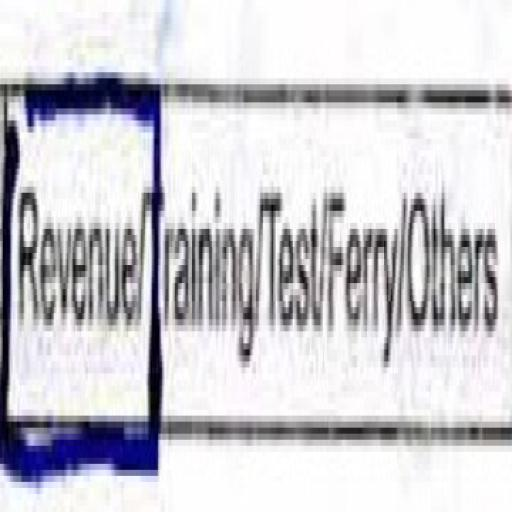check: (1, 0, 146, 512)
